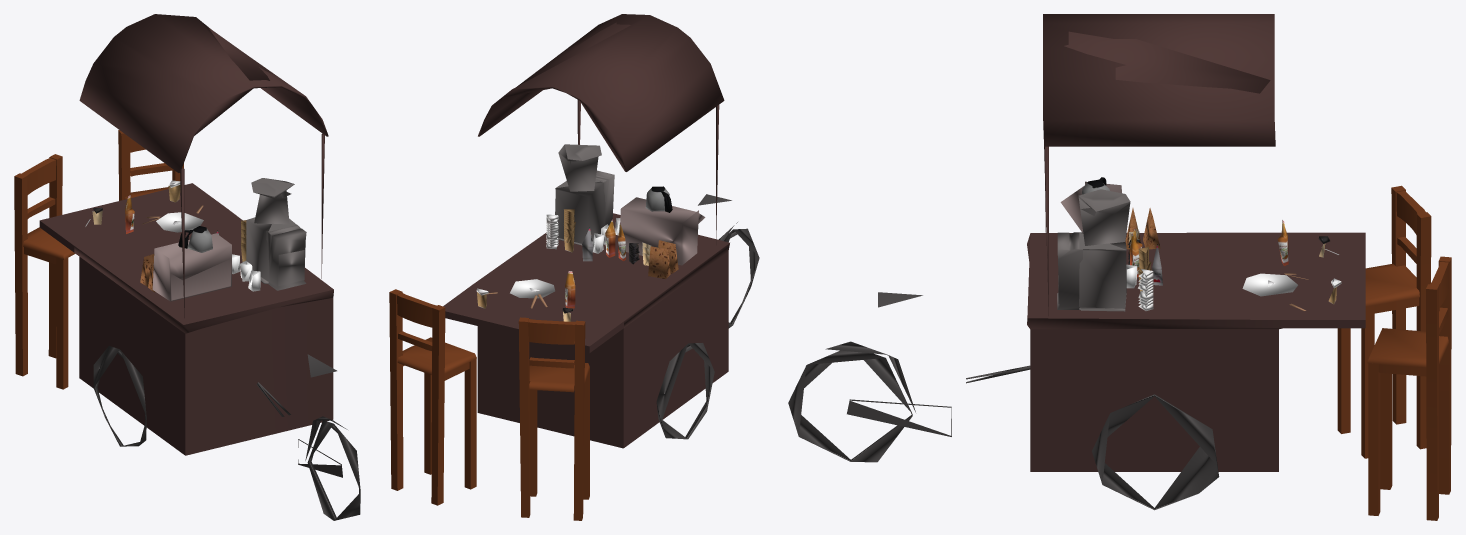
The model's file is coffee-cart.lod0.glb.
3 views of the same model, side by side, from view 1: azimuth 30°, elevation 25°; view 2: azimuth 150°, elevation 25°; view 3: azimuth 270°, elevation 25° (orthographic). The views are drawn at different scales.
Parts seen in each view (by area): view 1: bell_low_vehicle_0, body-1_low_coffee-props_0; view 2: bell_low_vehicle_0, body-1_low_coffee-props_0; view 3: bell_low_vehicle_0, body-1_low_coffee-props_0.
Boxes of the visible parts, x1,y1,x2,y2 form: bell_low_vehicle_0: [14, 14, 360, 520]; body-1_low_coffee-props_0: [85, 180, 260, 292]; bell_low_vehicle_0: [389, 14, 759, 520]; body-1_low_coffee-props_0: [476, 186, 678, 321]; bell_low_vehicle_0: [788, 14, 1451, 520]; body-1_low_coffee-props_0: [1082, 177, 1341, 311].
Size of the model in its own units: 0.8809 by 1.75 by 2.37.
Materials: 2 (1 with a texture image).
